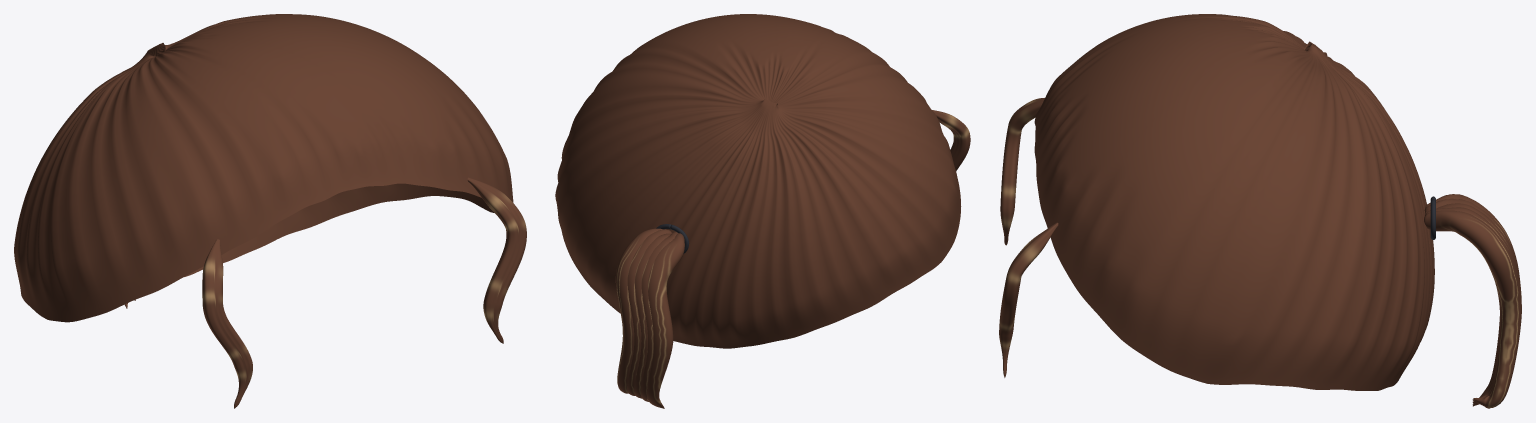
The model's file is Highlights-61ed6273d619252-hair.glb.
3 renders of one model, left to right at view 1: azimuth 30°, elevation 25°; view 2: azimuth 150°, elevation 25°; view 3: azimuth 270°, elevation 25°, orthographic. The views are drawn at different scales.
Visible parts, largest first — view 1: 226 hair / Hair / crisp pulled roots220.001, 226 hair / Hair / sculpted front locks222.001; view 2: 226 hair / Hair / crisp pulled roots220.001, 226 hair / Hair / chestnut226, 226 hair / Hair / sculpted front locks222.001; view 3: 226 hair / Hair / crisp pulled roots220.001, 226 hair / Hair / chestnut226, 226 hair / Hair / sculpted front locks222.001.
Part boxes in pixels (x1,y1,x2,y2): 226 hair / Hair / crisp pulled roots220.001: (14,14,513,322); 226 hair / Hair / sculpted front locks222.001: (202,177,526,408); 226 hair / Hair / crisp pulled roots220.001: (555,14,961,348); 226 hair / Hair / chestnut226: (615,228,684,408); 226 hair / Hair / sculpted front locks222.001: (932,110,970,171); 226 hair / Hair / crisp pulled roots220.001: (1034,14,1434,390); 226 hair / Hair / chestnut226: (1424,194,1521,408); 226 hair / Hair / sculpted front locks222.001: (999,98,1058,377).
Bounding box in the file's own units: 0.9675 × 0.7594 × 0.9676.
4 materials, 3 textured.
